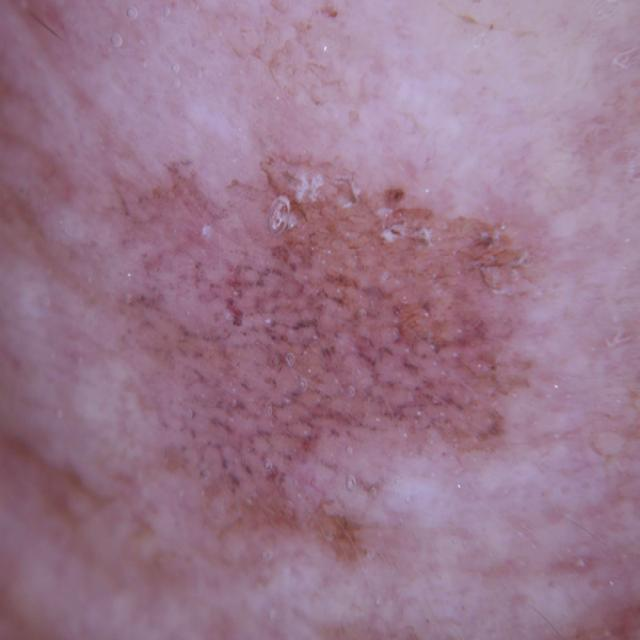Skin-Cancer Pigmented benign keratosis: (20, 28, 609, 640)
